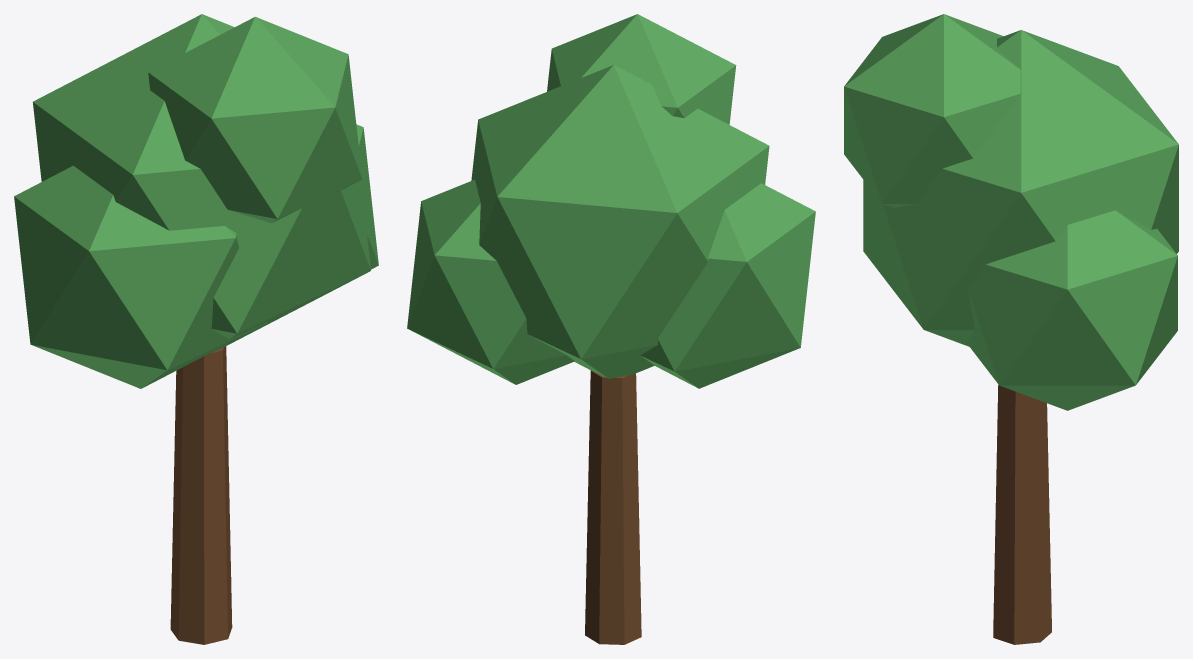
Rendered from tree_round.glb.
3 renders of one model, left to right at view 1: azimuth 30°, elevation 25°; view 2: azimuth 150°, elevation 25°; view 3: azimuth 270°, elevation 25°, orthographic. The views are drawn at different scales.
Parts seen in each view (by area): view 1: TreeRound; view 2: TreeRound; view 3: TreeRound.
Part boxes in pixels (left/top/right/bottom): TreeRound: left=14, top=14, right=378, bottom=644; TreeRound: left=407, top=14, right=815, bottom=644; TreeRound: left=844, top=14, right=1178, bottom=644.
Size of the model in its own units: 1.36 by 2.23 by 1.08.
